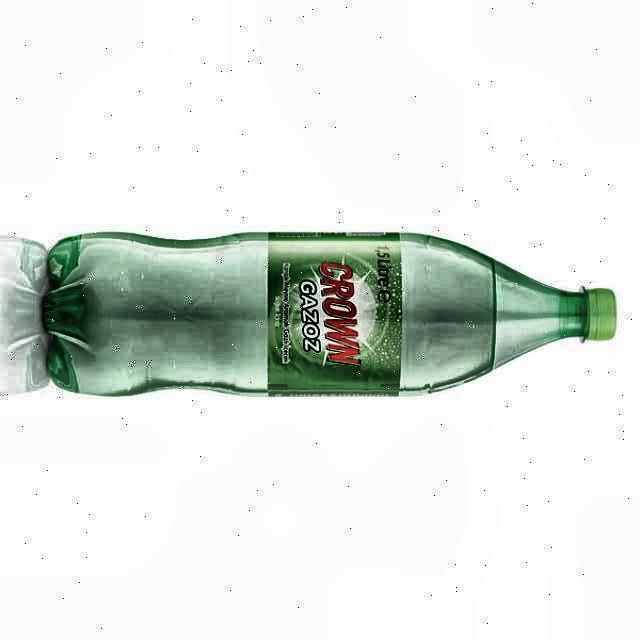plastic: (42, 232, 616, 395)
